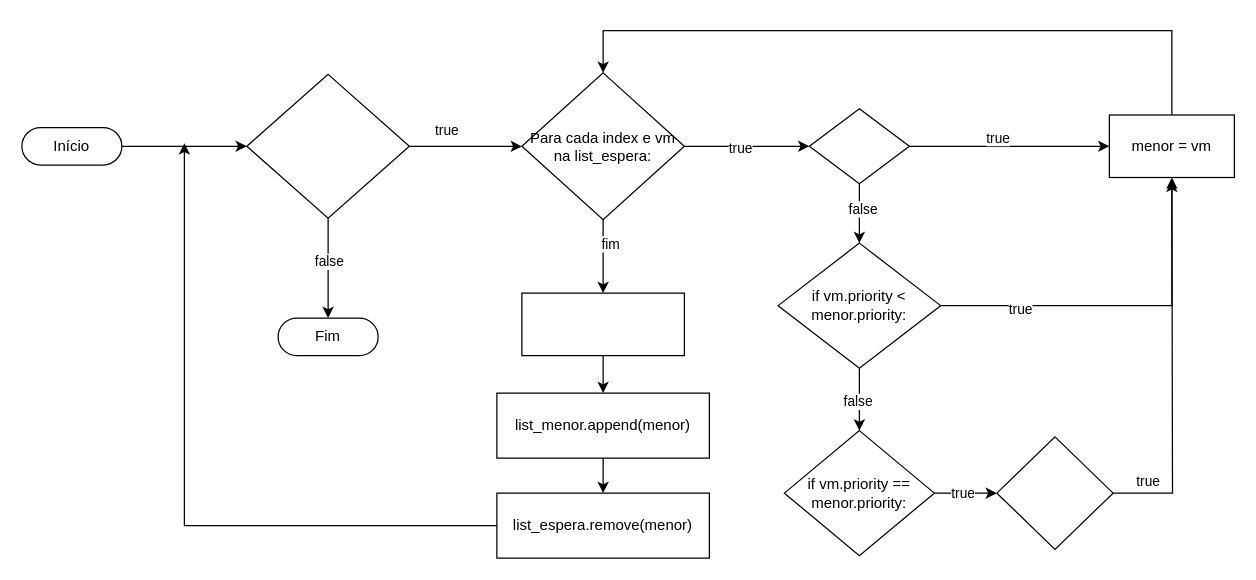
This 1256x580 diagram has some shape labels left out. Each missing label, with the centre of its shape:
Enquanto tamanho list_espera > 0: point (327, 145)
if vm.et < menor.et:: point (1054, 492)
ordenada_change = True: point (602, 324)
se i == 0: point (858, 146)
